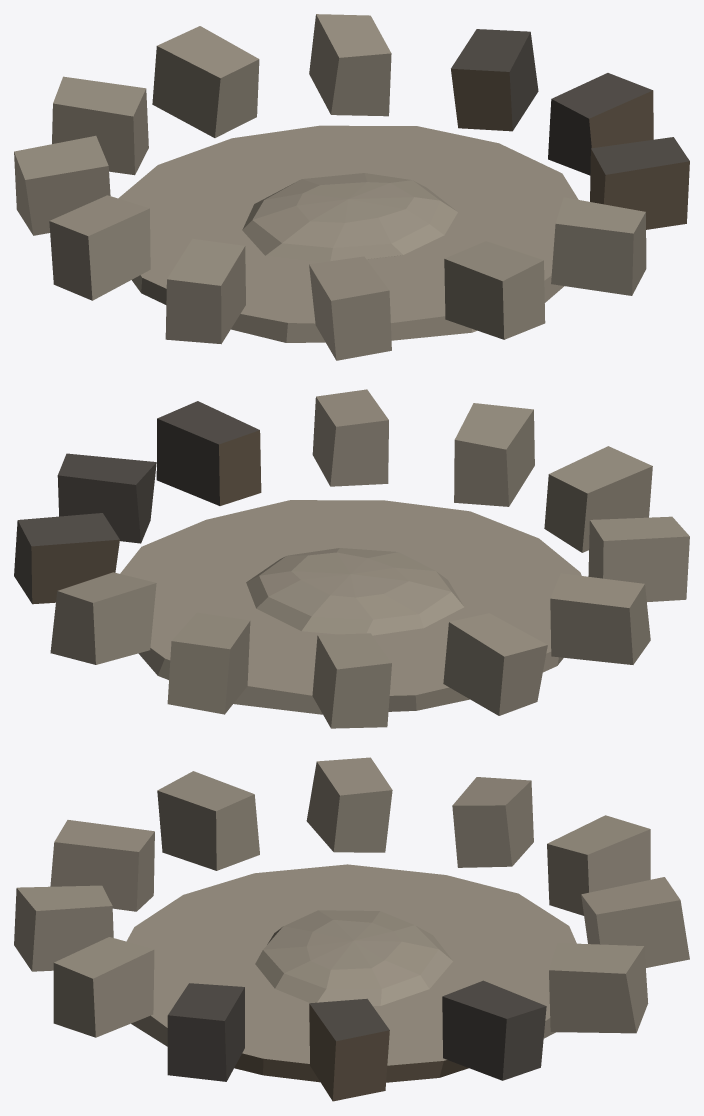
File: fire_pit.glb
The picture shows the model from 3 angles, top to bottom: view 1: azimuth 30°, elevation 25°; view 2: azimuth 150°, elevation 25°; view 3: azimuth 270°, elevation 25°; orthographic projection.
Visible parts, largest first — view 1: fire_pit; view 2: fire_pit; view 3: fire_pit.
Part boxes in pixels (left/top/right/bottom): fire_pit: left=14, top=14, right=689, bottom=360; fire_pit: left=14, top=389, right=689, bottom=728; fire_pit: left=14, top=757, right=689, bottom=1101.
Size of the model in its own units: 0.7041 by 0.1068 by 0.7078.
